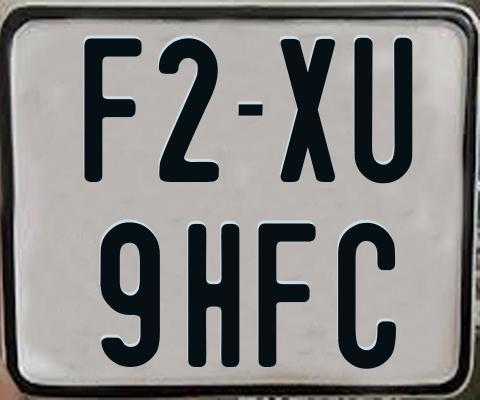2: (157, 36, 217, 184)
9: (97, 222, 161, 368)
C: (335, 220, 397, 366)
F: (82, 35, 143, 180), (257, 221, 316, 367)
H: (186, 223, 243, 370)
U: (353, 35, 417, 180)
X: (279, 39, 338, 188)
